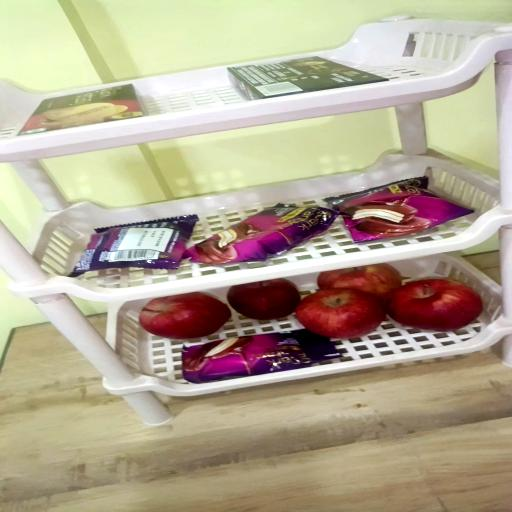Apple: (385, 280, 482, 332), (296, 288, 385, 340), (138, 293, 229, 340), (317, 265, 403, 302), (229, 279, 302, 321)
Choco Fills: (228, 56, 391, 100), (18, 82, 145, 134)
Choco Pie: (324, 178, 474, 244), (190, 205, 338, 267), (183, 330, 344, 384), (69, 216, 197, 278)
